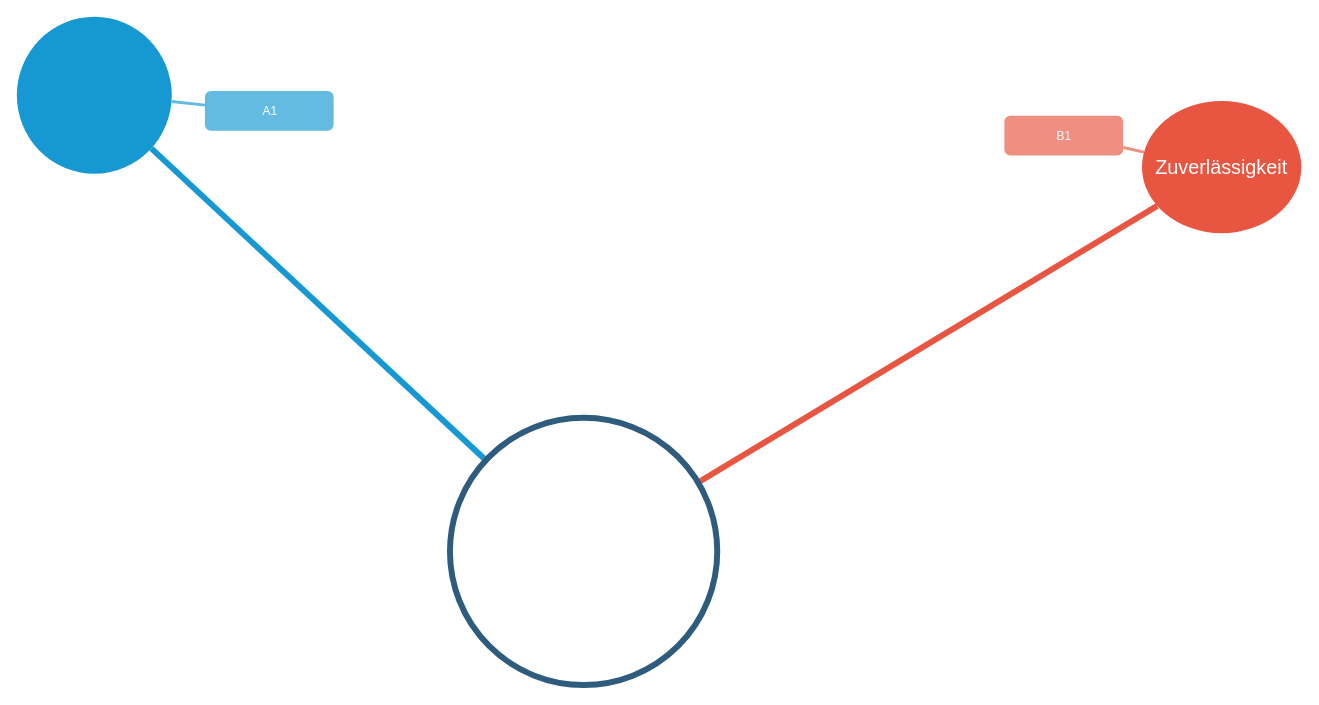
Some shapes in this 1319 by 705 pixel diagram are drawn without their labels. The box of each missing label's shape, as (x1, y1, x2, y2) in pixels:
Benutzbarkeit: (16, 16, 171, 173)
Qualität: (446, 414, 720, 688)
